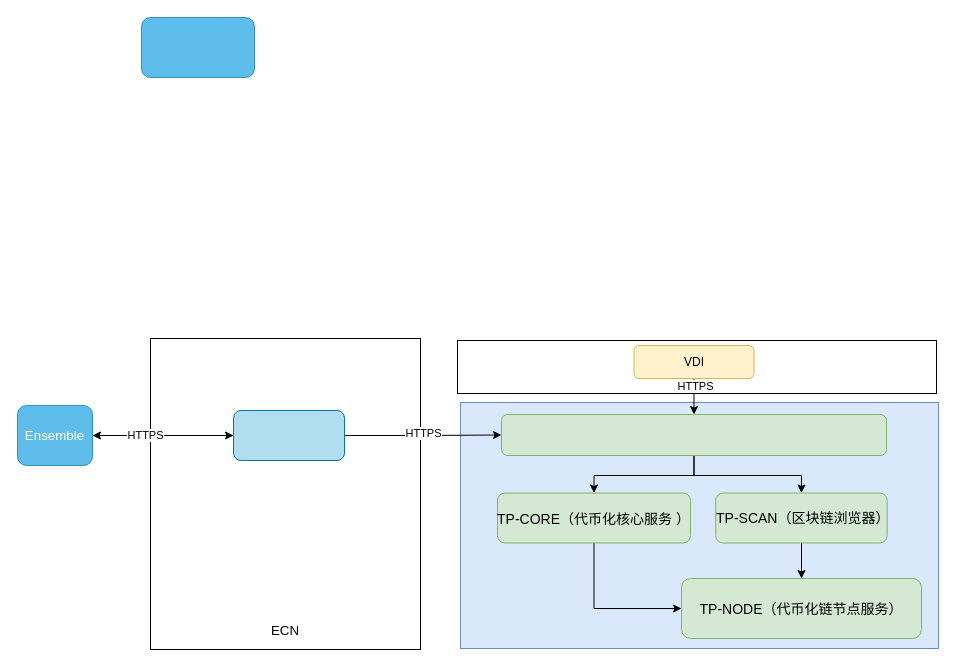
This 956x667 diagram has some shape labels left out. Here are the shapes that lost their labels. From the top down, the box of each, then its label:
(140, 16, 254, 78): 交易信息查询员
(232, 410, 344, 460): PROXY
(500, 414, 886, 456): TP-Gateway（ 代币化网关 ）
